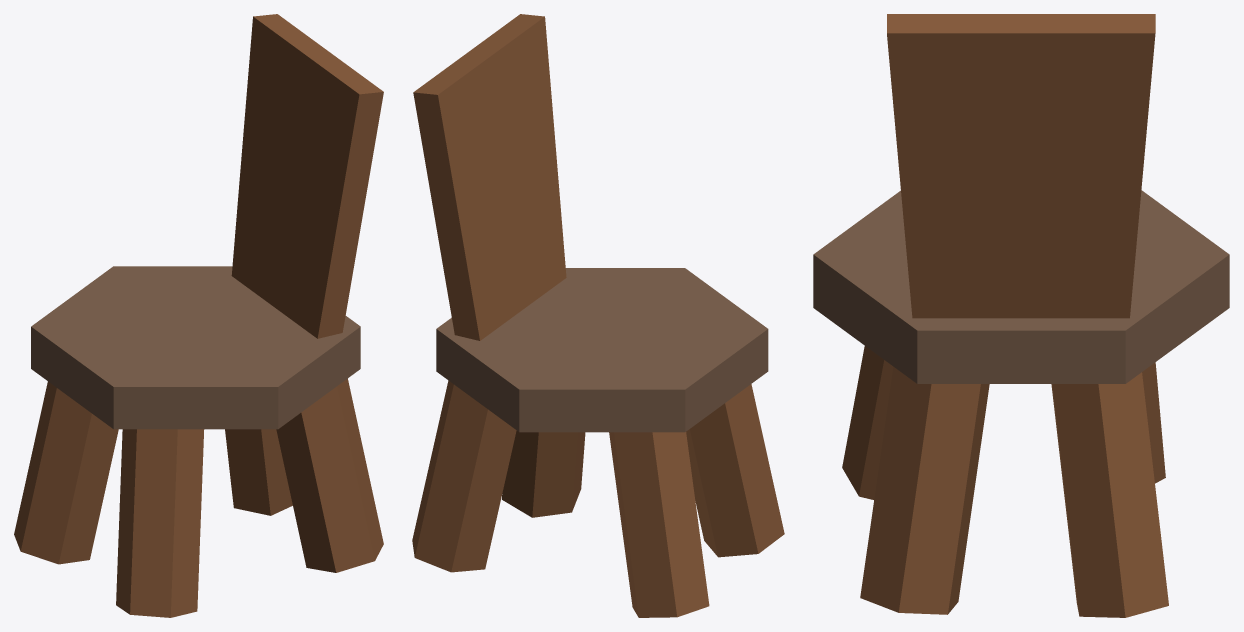
Rendered from Done_Chair.glb.
The picture shows the model from 3 angles, left to right: view 1: azimuth 30°, elevation 25°; view 2: azimuth 150°, elevation 25°; view 3: azimuth 270°, elevation 25°; orthographic projection. The views are drawn at different scales.
Parts seen in each view (by area): view 1: Chair; view 2: Chair; view 3: Chair.
Part boxes in pixels (bbox=[...]): Chair: bbox=[14, 14, 383, 617]; Chair: bbox=[412, 14, 784, 617]; Chair: bbox=[813, 14, 1229, 617].
Size of the model in its own units: 1.18 by 1.85 by 1.17.
